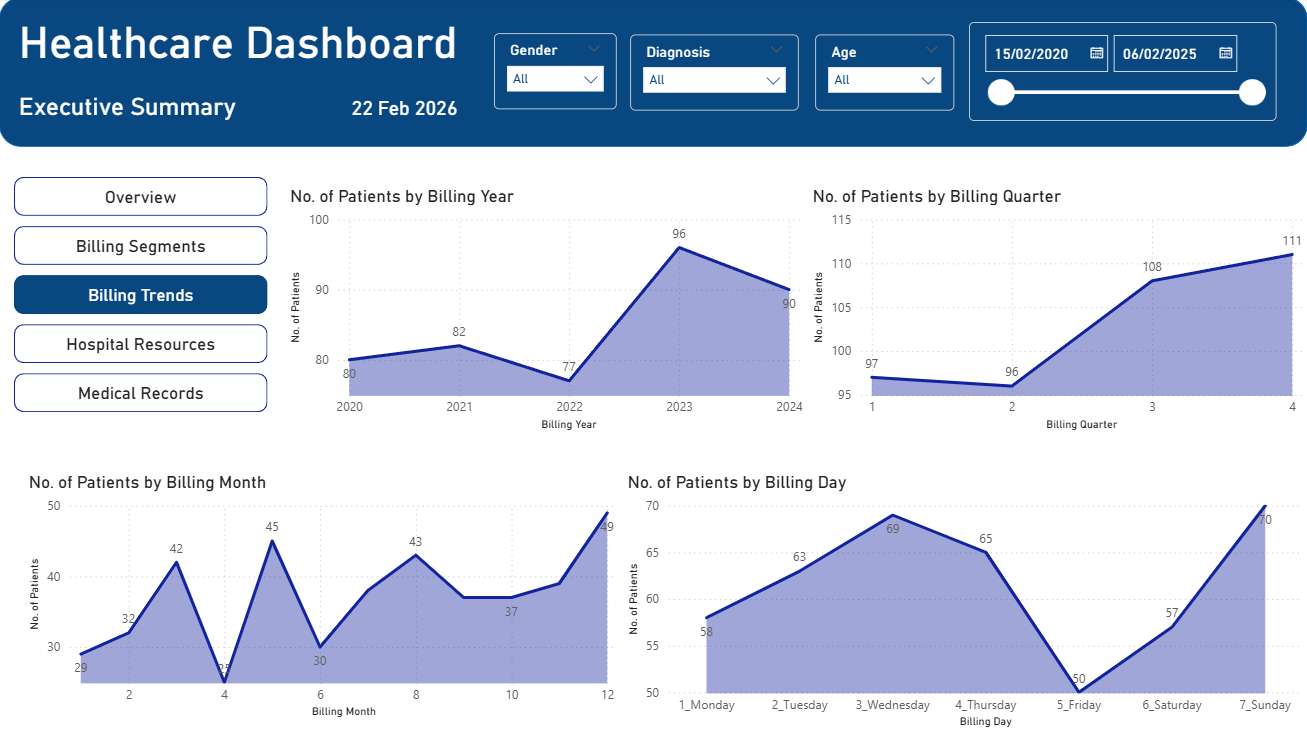

The dashboard page shown, as its layout file describes it:
{"tool":"powerbi","page":{"name":"Billing Trends","canvas":[1280,720],"ordinal":2},"visuals":[{"type":"shape","box":[0,0,1280.3,146.7],"z":0,"group":"g1"},{"type":"lineChart","fields":{"Category":["billing.Billing Day"],"Y":["billing.No of Patient"]},"box":[610.2,464.7,670.1,255.6],"z":0},{"type":"textbox","box":[14.7,14.7,454.9,59.9],"z":1000,"group":"g1"},{"type":"lineChart","fields":{"Category":["billing.Billing Month"],"Y":["billing.No of Patient"]},"box":[24.5,464.7,585.7,245.8],"z":1000},{"type":"textbox","box":[14.7,88,223.8,40.4],"z":2000,"group":"g1"},{"type":"lineChart","fields":{"Category":["billing.Billing Year"],"Y":["billing.No of Patient"]},"box":[280,184.6,511.1,244.6],"z":2000},{"type":"lineChart","title":"No. of Patients by Billing Quarter","fields":{"Category":["billing.Billing Quater"],"Y":["billing.No of Patient"]},"box":[791.2,184.6,489.1,244.6],"z":3000},{"type":"group","id":"g1","title":"Group 1","box":[0,0,1280.3,146.7],"z":4000},{"type":"pageNavigator","box":[14.7,176.1,248.2,232.3],"z":5000},{"type":"card","fields":{"Values":["patients.Today Label"]},"box":[335.1,88,123.5,41.6],"z":10000,"group":"g1"},{"type":"slicer","fields":{"Values":["patients.Diagnosis"]},"box":[617.5,36.7,165.1,74.6],"z":11000,"group":"g1"},{"type":"slicer","fields":{"Values":["billing.Billing_Date"]},"box":[948.9,24.5,300.8,96.6],"z":12000,"group":"g1"},{"type":"slicer","fields":{"Values":["patients.Gender"]},"box":[484.2,35.5,119.8,74.6],"z":26000,"group":"g1"},{"type":"slicer","fields":{"Values":["patients.Age Category"]},"box":[798.5,36.7,135.7,74.6],"z":27000,"group":"g1"}]}

Visuals, with their boxes in screenshot pixels (x1, y1, x2, y2), scaled from the page's 1280x720 canvas onto the 1307x729 screenshot:
shape: [left=0, top=0, right=1306, bottom=149]
lineChart - billing.Billing Day x billing.No of Patient: [left=623, top=471, right=1306, bottom=728]
textbox: [left=15, top=15, right=480, bottom=76]
lineChart - billing.Billing Month x billing.No of Patient: [left=25, top=471, right=623, bottom=719]
textbox: [left=15, top=89, right=244, bottom=130]
lineChart - billing.Billing Year x billing.No of Patient: [left=286, top=187, right=808, bottom=435]
"No. of Patients by Billing Quarter" lineChart: [left=808, top=187, right=1306, bottom=435]
"Group 1" group: [left=0, top=0, right=1306, bottom=149]
pageNavigator: [left=15, top=178, right=268, bottom=414]
card - patients.Today Label: [left=342, top=89, right=468, bottom=131]
slicer - patients.Diagnosis: [left=631, top=37, right=799, bottom=113]
slicer - billing.Billing_Date: [left=969, top=25, right=1276, bottom=123]
slicer - patients.Gender: [left=494, top=36, right=617, bottom=111]
slicer - patients.Age Category: [left=815, top=37, right=954, bottom=113]
